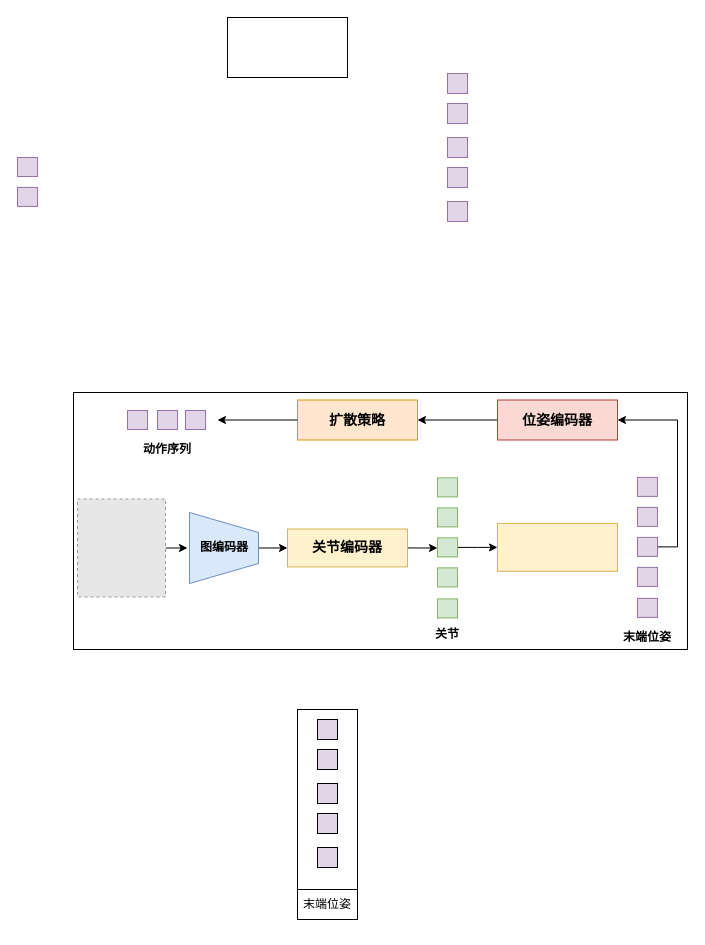
This 705x945 diagram has some shape labels left out. Grey dashed boxes stand in for pictures. The centre of each missing label's shape, as x and y in pixels:
"multi-view multi-modal observation encoder" goes at (287,47).
"前向运动学" goes at (557,546).
